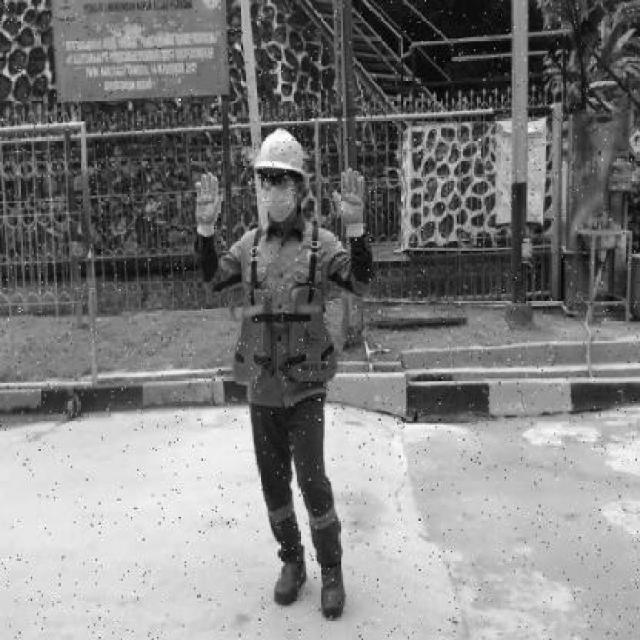Boots: (272, 540, 310, 612), (313, 550, 349, 622)
Gloves: (330, 166, 367, 240), (193, 170, 224, 238)
Helmet: (254, 125, 308, 181)
Mask: (262, 186, 296, 222)
Protective Glasses: (258, 171, 302, 187)
Vest: (229, 283, 340, 391)
